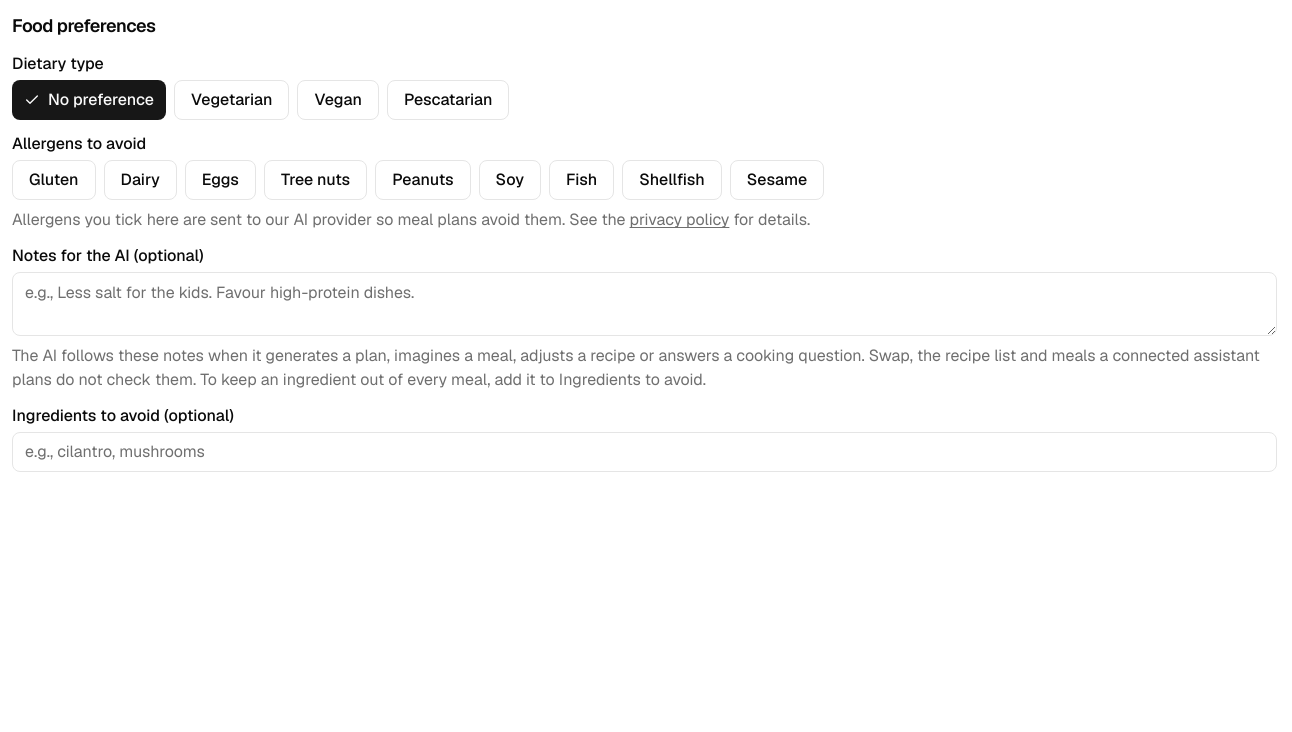
Test: FoodPreferencesForm › form interactions › changes dietary type selection
Click the radio button labelled "Vegan" at (338,100), box [297,80,379,120]
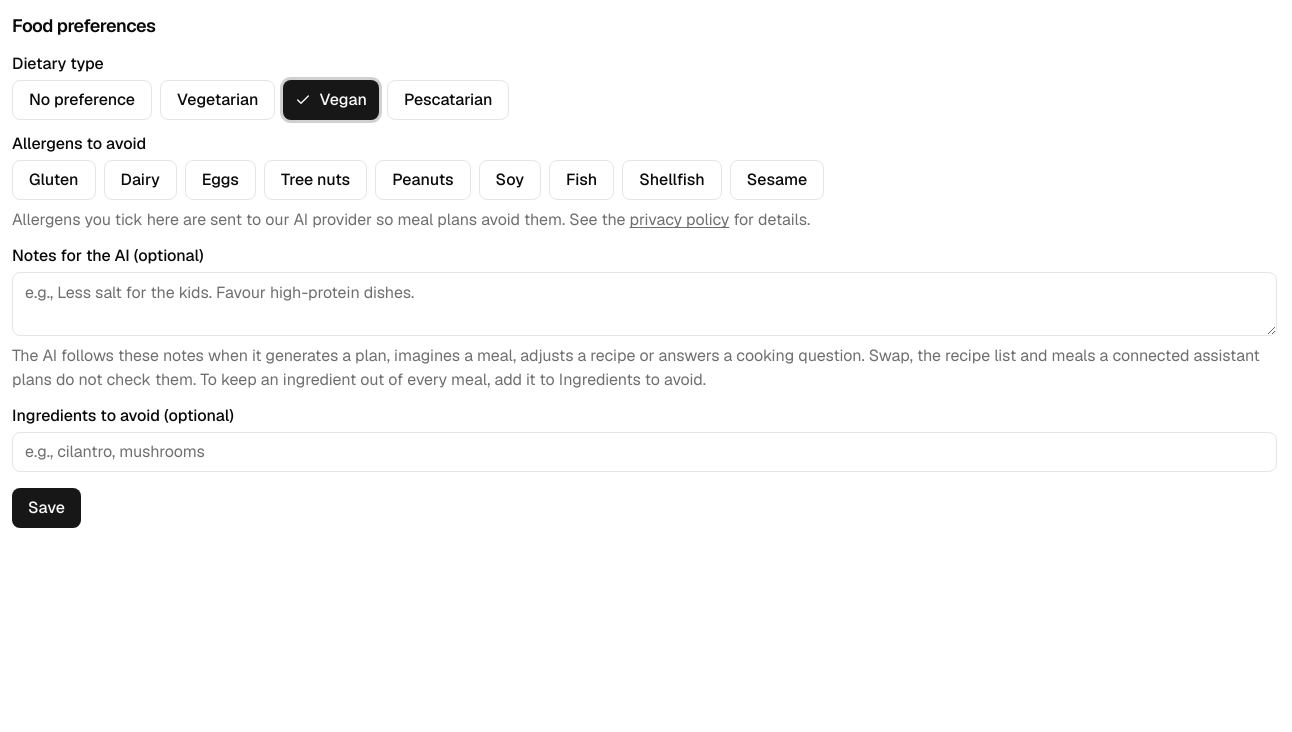
Expected: the radio button labelled "Vegan" is checked, [283,80,379,120]
Expected: the radio button labelled "No preference" is not checked, [12,80,152,120]
